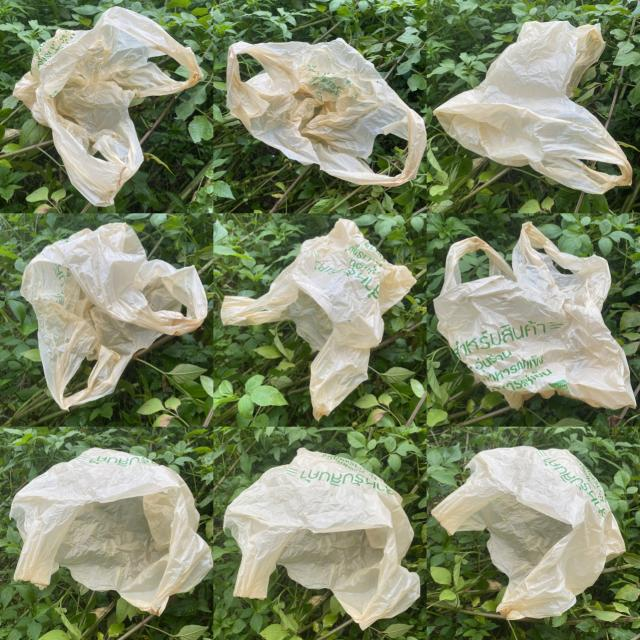Single-layer Plastic: (222, 219, 416, 419), (12, 6, 202, 206), (434, 222, 636, 408), (224, 448, 420, 628), (22, 222, 208, 410), (434, 21, 632, 194), (10, 447, 212, 615), (433, 446, 625, 620), (220, 28, 426, 186)
